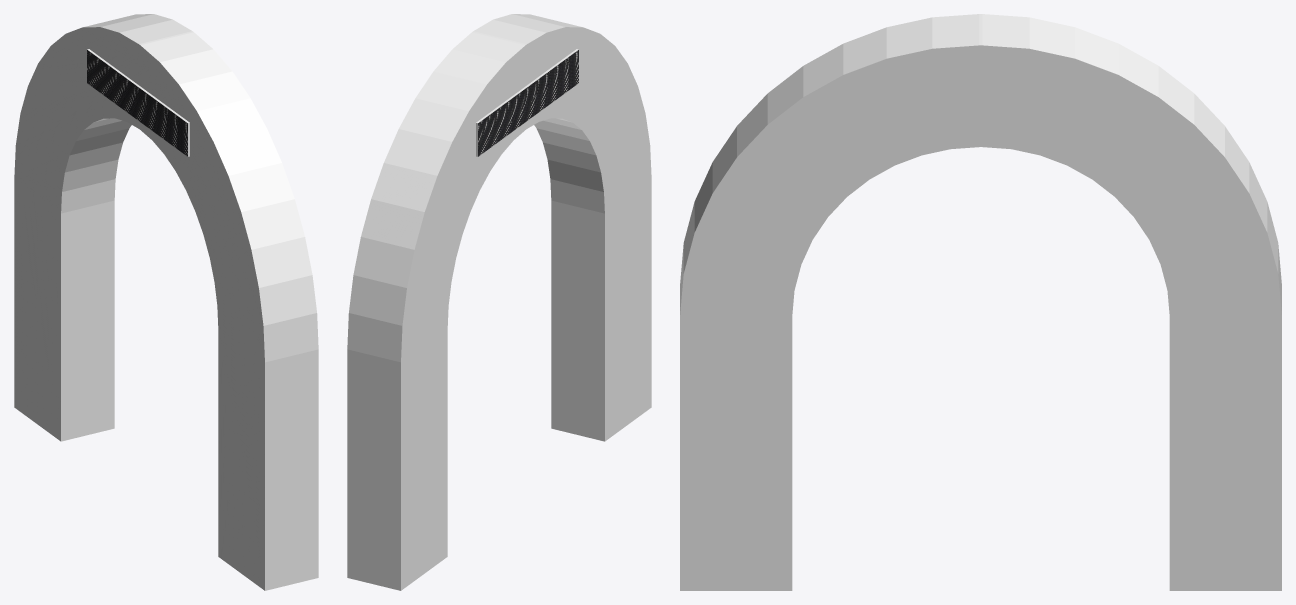
File: ARCO.obj
The picture shows the model from 3 angles, left to right: view 1: azimuth 30°, elevation 25°; view 2: azimuth 150°, elevation 25°; view 3: azimuth 270°, elevation 25°; orthographic projection. The views are drawn at different scales.
Visible parts, largest first — view 1: arco; view 2: arco; view 3: arco.
Part boxes in pixels (<box>): arco: <box>14,14,318,590</box>; arco: <box>347,14,651,590</box>; arco: <box>680,14,1281,590</box>.
Bounding box in the file's own units: 0.2575 × 2 × 2.
